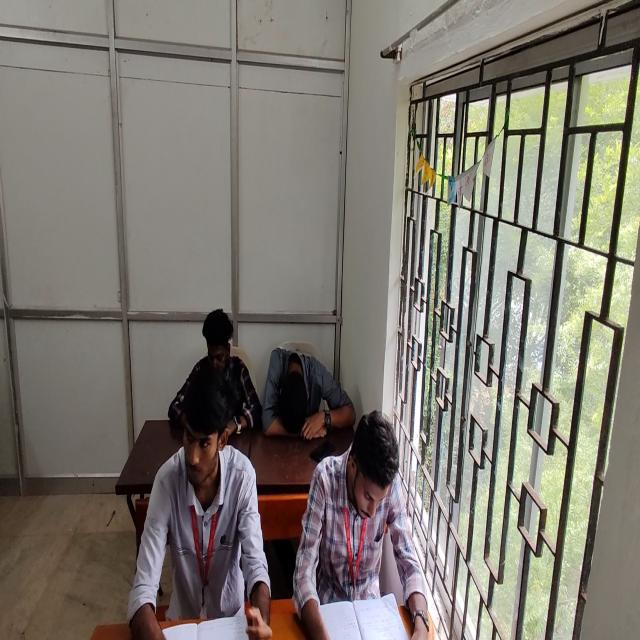listening: (128, 366, 273, 638)
reading: (294, 410, 418, 639)
sleeping: (262, 345, 353, 440)
using_mobile: (169, 308, 263, 433)
